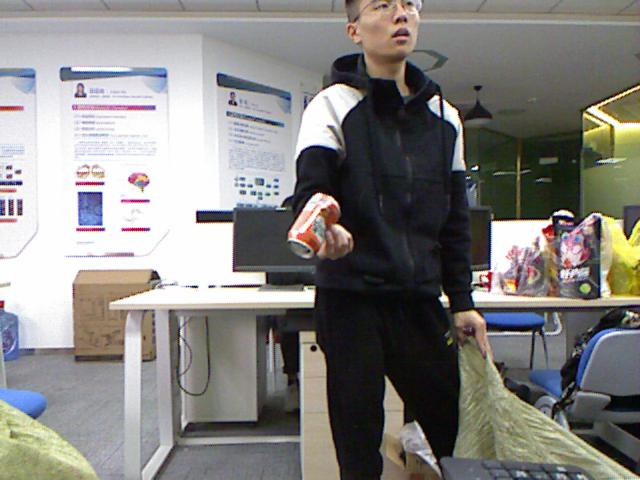metal: (287, 194, 336, 258)
